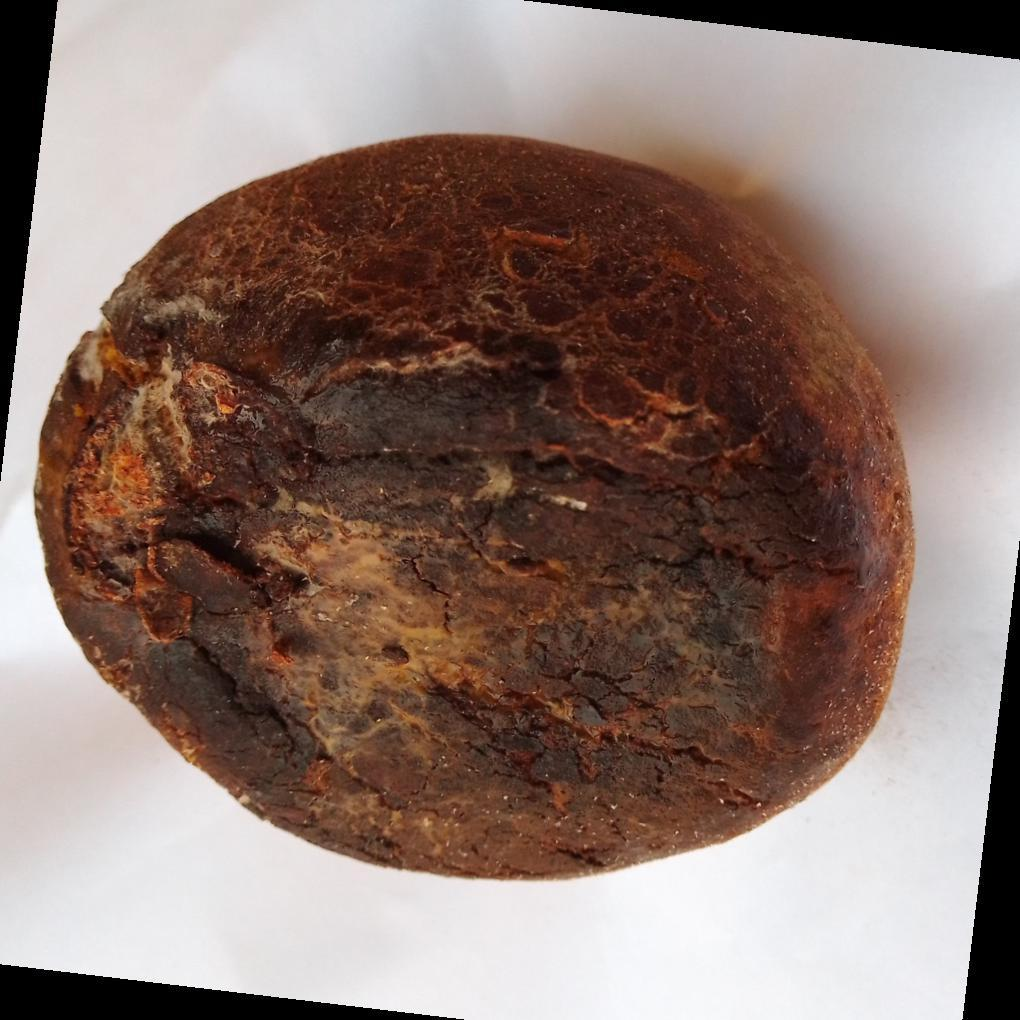FreshOrange: (32, 134, 917, 885)
